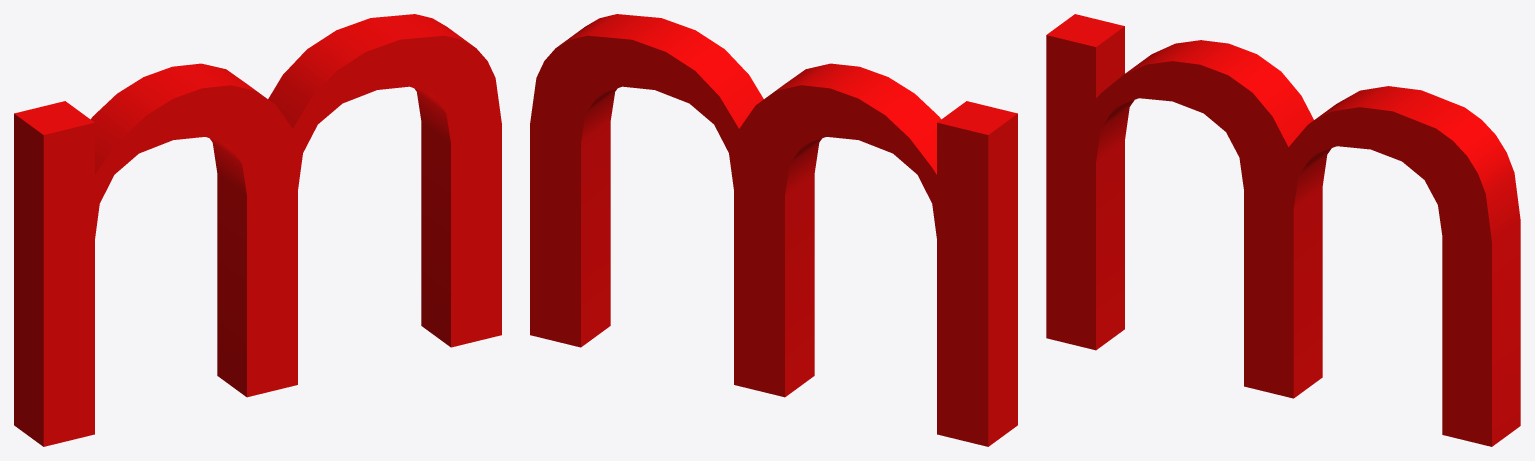
The model's file is original-33.obj.
3 views of the same model, side by side, from view 1: azimuth 30°, elevation 25°; view 2: azimuth 150°, elevation 25°; view 3: azimuth 330°, elevation 25° (orthographic). The views are drawn at different scales.
Parts seen in each view (by area): view 1: mesh64/mesh64-geometry#mesh64-geometry; view 2: mesh64/mesh64-geometry#mesh64-geometry; view 3: mesh64/mesh64-geometry#mesh64-geometry.
Part boxes in pixels (x1,y1,x2,y2): mesh64/mesh64-geometry#mesh64-geometry: (14, 14, 501, 446); mesh64/mesh64-geometry#mesh64-geometry: (530, 14, 1017, 446); mesh64/mesh64-geometry#mesh64-geometry: (1046, 14, 1520, 446).
Size of the model in its own units: 0.0107 by 0.00713 by 0.00119.
